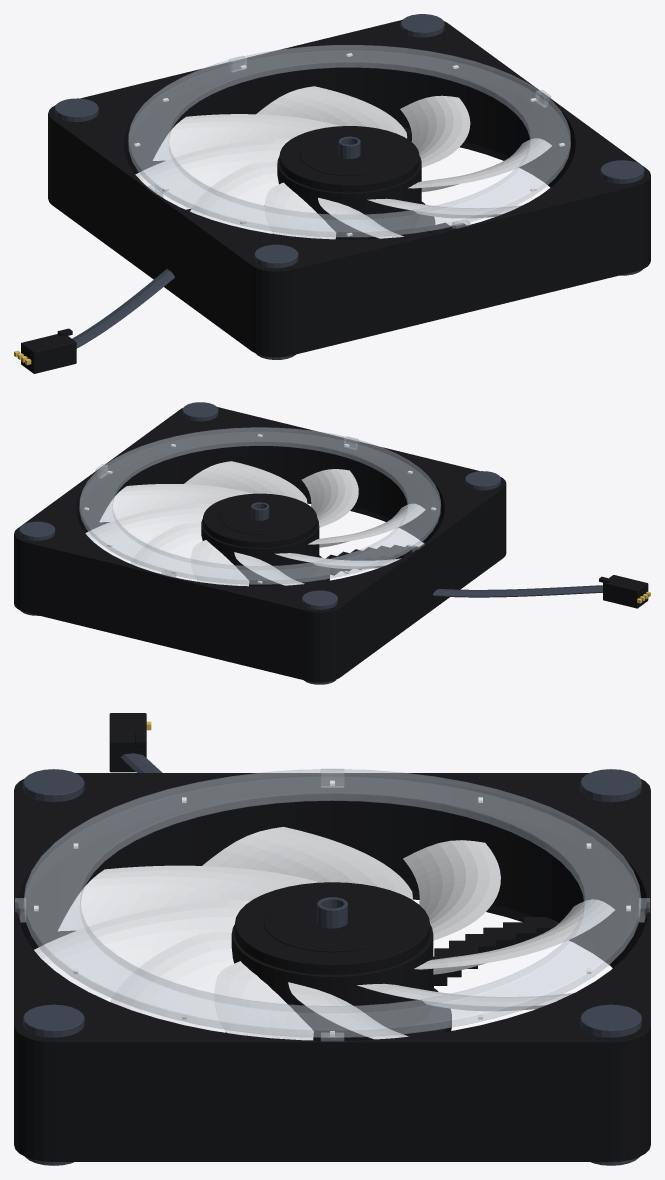
Rendered from case-fan.lod0.glb.
The picture shows the model from 3 angles, top to bottom: view 1: azimuth 30°, elevation 25°; view 2: azimuth 150°, elevation 25°; view 3: azimuth 270°, elevation 25°; orthographic projection. The views are drawn at different scales.
Parts seen in each view (by area): view 1: P01_frame, P07_argb_ring, P02_blades, P03_hub, P08_antivib_pads, P06_pwm_connector, P06_pwm_jacket, P01_frame_struts; view 2: P01_frame, P07_argb_ring, P02_blades, P03_hub, P08_antivib_pads, P06_pwm_jacket, P01_frame_struts, P06_pwm_connector; view 3: P01_frame, P07_argb_ring, P02_blades, P03_hub, P08_antivib_pads, P01_frame_struts, P06_pwm_connector.
Part boxes in pixels (<box>): P01_frame: <box>48,20,650,357</box>; P07_argb_ring: <box>128,45,570,237</box>; P02_blades: <box>135,86,551,239</box>; P03_hub: <box>277,126,421,239</box>; P08_antivib_pads: <box>54,14,644,359</box>; P06_pwm_connector: <box>21,328,76,373</box>; P06_pwm_jacket: <box>72,269,174,348</box>; P01_frame_struts: <box>186,128,466,236</box>; P01_frame: <box>14,407,506,682</box>; P07_argb_ring: <box>79,427,440,584</box>; P02_blades: <box>85,461,425,586</box>; P03_hub: <box>201,493,319,586</box>; P08_antivib_pads: <box>19,402,500,684</box>; P06_pwm_jacket: <box>433,585,602,597</box>; P01_frame_struts: <box>307,544,423,583</box>; P06_pwm_connector: <box>599,575,648,608</box>; P01_frame: <box>14,773,650,1161</box>; P07_argb_ring: <box>14,768,650,1041</box>; P02_blades: <box>34,827,614,1040</box>; P03_hub: <box>231,882,433,1040</box>; P08_antivib_pads: <box>23,769,641,1165</box>; P01_frame_struts: <box>226,917,558,1036</box>; P06_pwm_connector: <box>109,713,146,772</box>.
Size of the model in its own units: 182 by 28.3 by 120.
